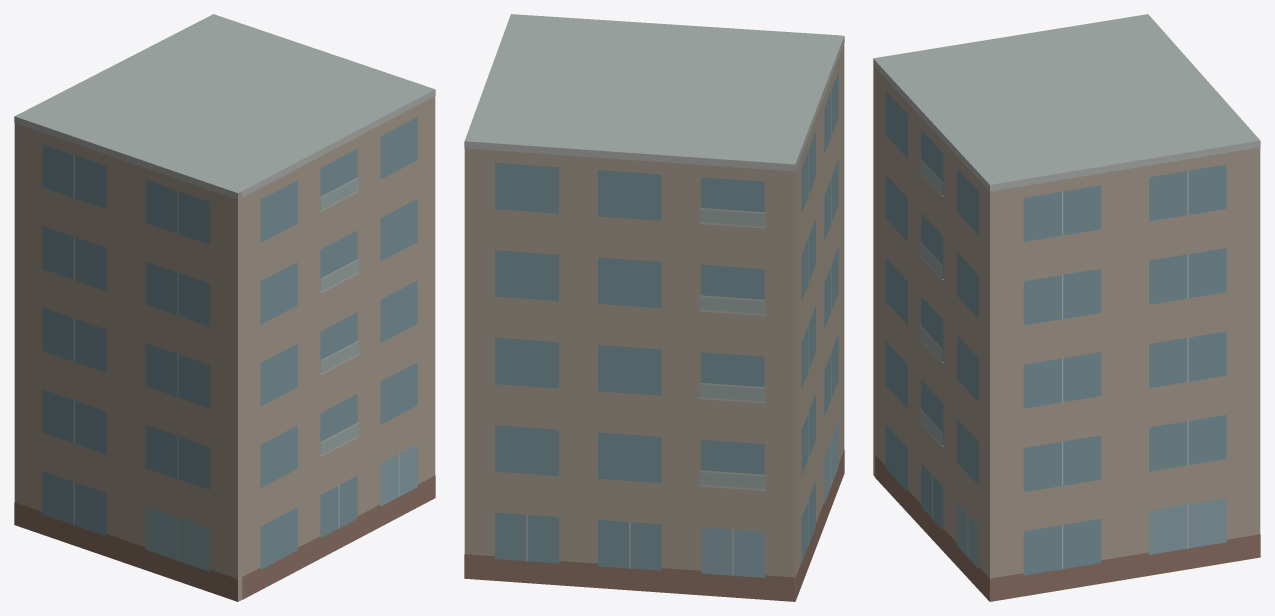
File: survey-upis-32600797.glb
The picture shows the model from 3 angles, left to right: view 1: azimuth 30°, elevation 25°; view 2: azimuth 150°, elevation 25°; view 3: azimuth 270°, elevation 25°; orthographic projection. The views are drawn at different scales.
Visible parts, largest first — view 1: survey-upis-32600797.tmp; view 2: survey-upis-32600797.tmp; view 3: survey-upis-32600797.tmp.
Boxes of the visible parts, box(x1,y1,x2,y2) form: survey-upis-32600797.tmp: box(14, 14, 435, 601); survey-upis-32600797.tmp: box(464, 14, 844, 601); survey-upis-32600797.tmp: box(873, 14, 1260, 601).
Bounding box in the file's own units: 13.29 × 15.1 × 12.71.
